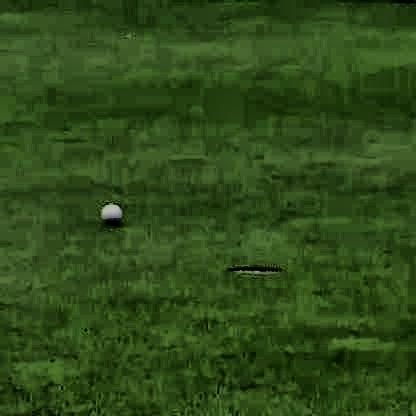golfball: (97, 198, 120, 223)
